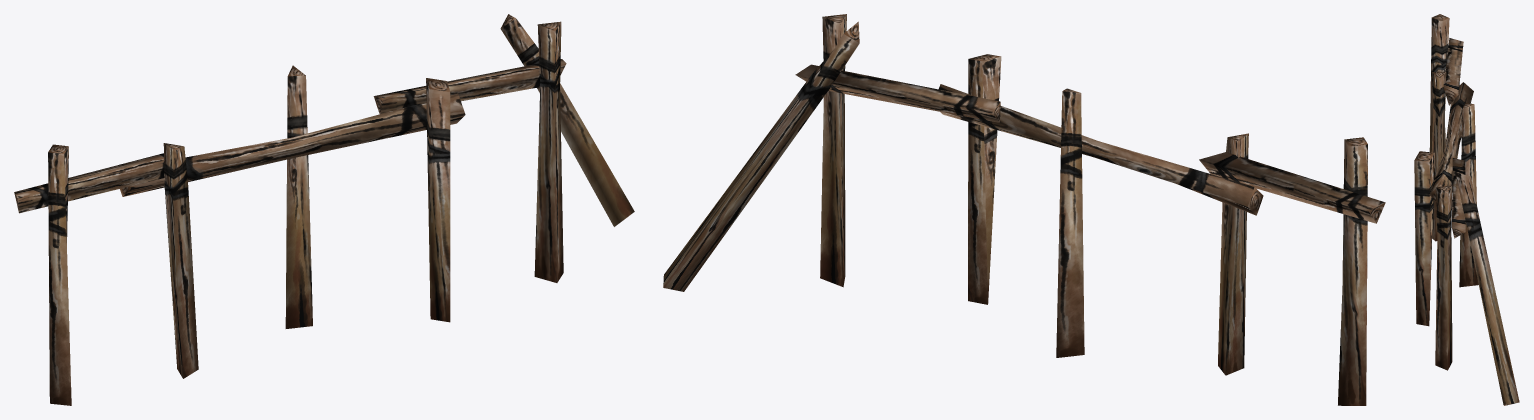
File: PRP_WoodFenceD.FBX
3 views of the same model, side by side, from view 1: azimuth 30°, elevation 25°; view 2: azimuth 150°, elevation 25°; view 3: azimuth 270°, elevation 25° (orthographic). The views are drawn at different scales.
Parts seen in each view (by area): view 1: PRP_WoodFenceD; view 2: PRP_WoodFenceD; view 3: PRP_WoodFenceD.
Part boxes in pixels (x1=…): PRP_WoodFenceD: x1=14, y1=14, x2=634, y2=405; PRP_WoodFenceD: x1=663, y1=14, x2=1385, y2=405; PRP_WoodFenceD: x1=1414, y1=14, x2=1519, y2=405.
Bounding box in the file's own units: 428 × 167 × 84.47.
